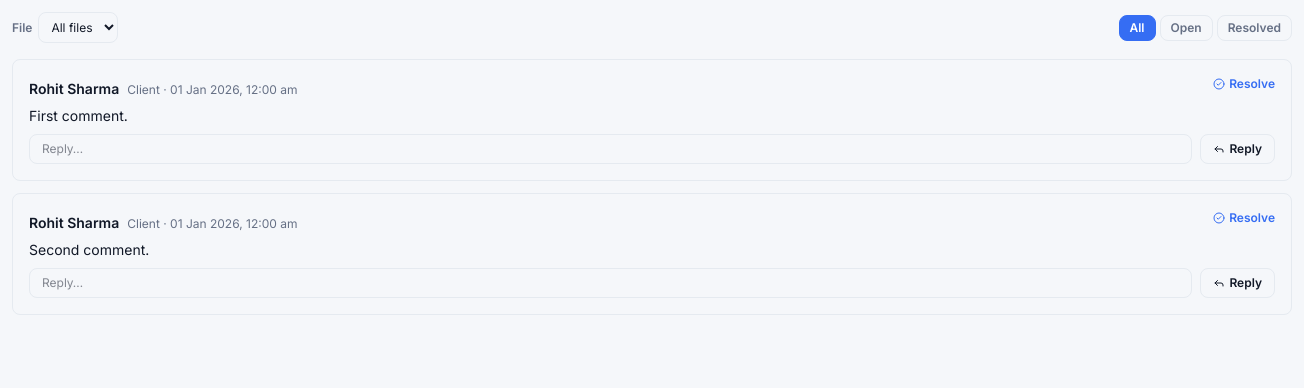
Test: CommentsTab reply › only updates the targeted comment card when two cards are present
In the field with placeholder "Reply…" below "First comment.": (611, 149) [29, 134, 1192, 164], type "Reply to the first card."
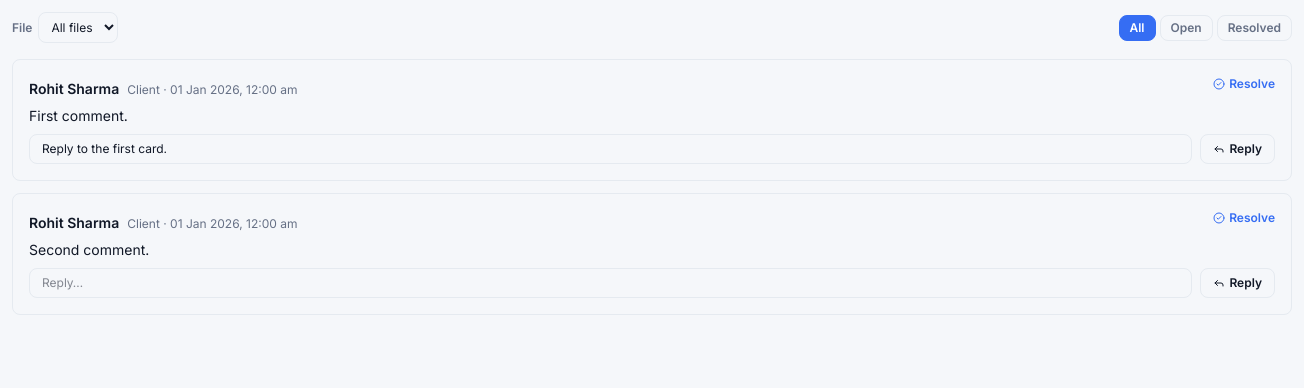
Click the 1st button "Reply": (1238, 149) [1200, 134, 1275, 164]
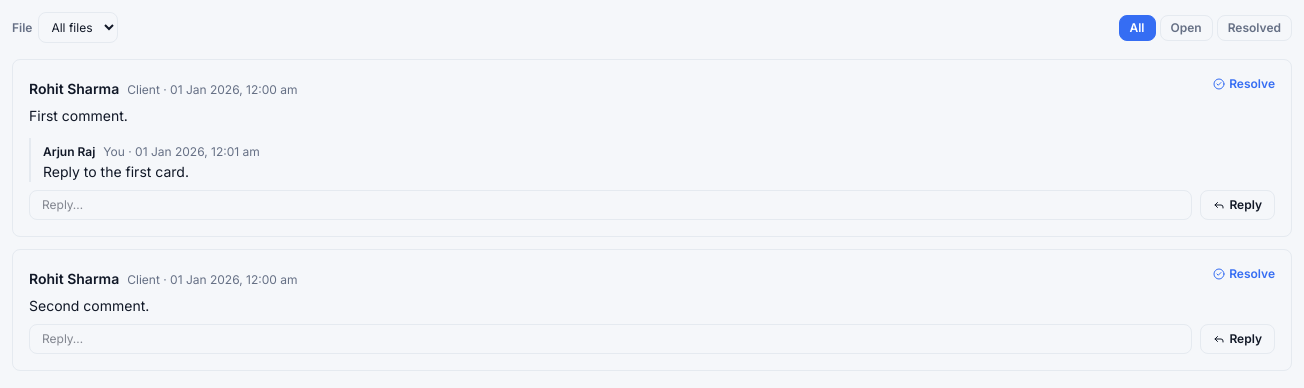
Check: the field with placeholder "Reply…" below "Second comment." is empty, box [29, 324, 1192, 354]
Check: the text "Reply to the first card." is shown, box [43, 163, 189, 180]
